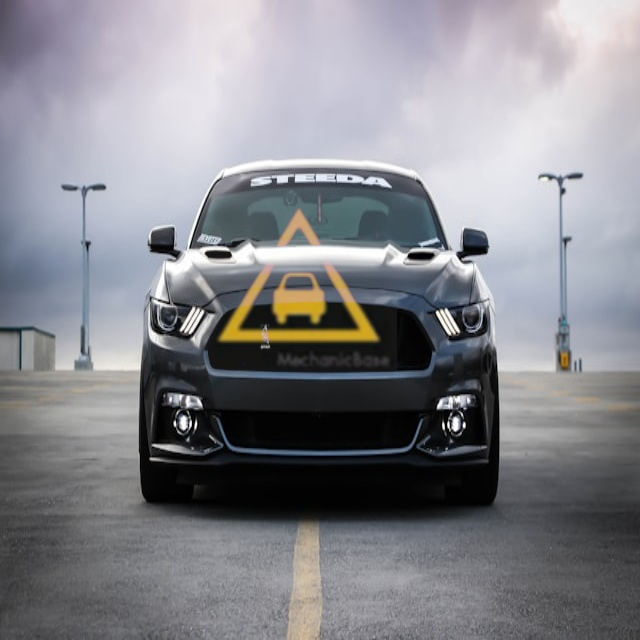symbol: (200, 179, 397, 376)
